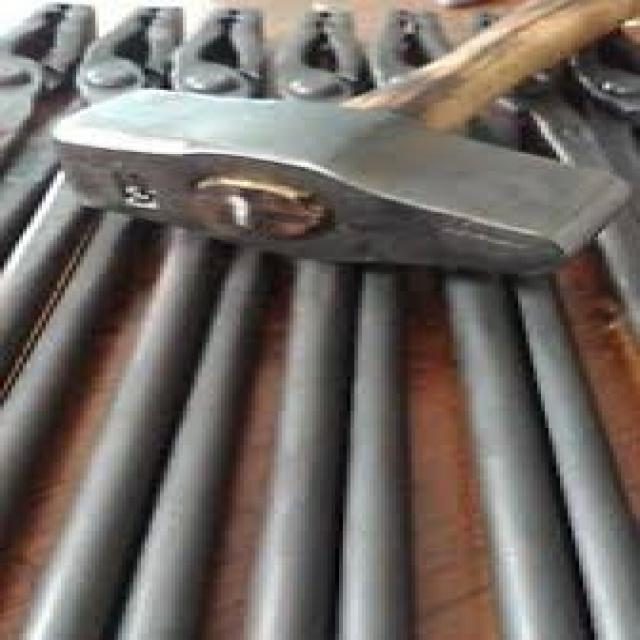hammer: (42, 0, 640, 276)
